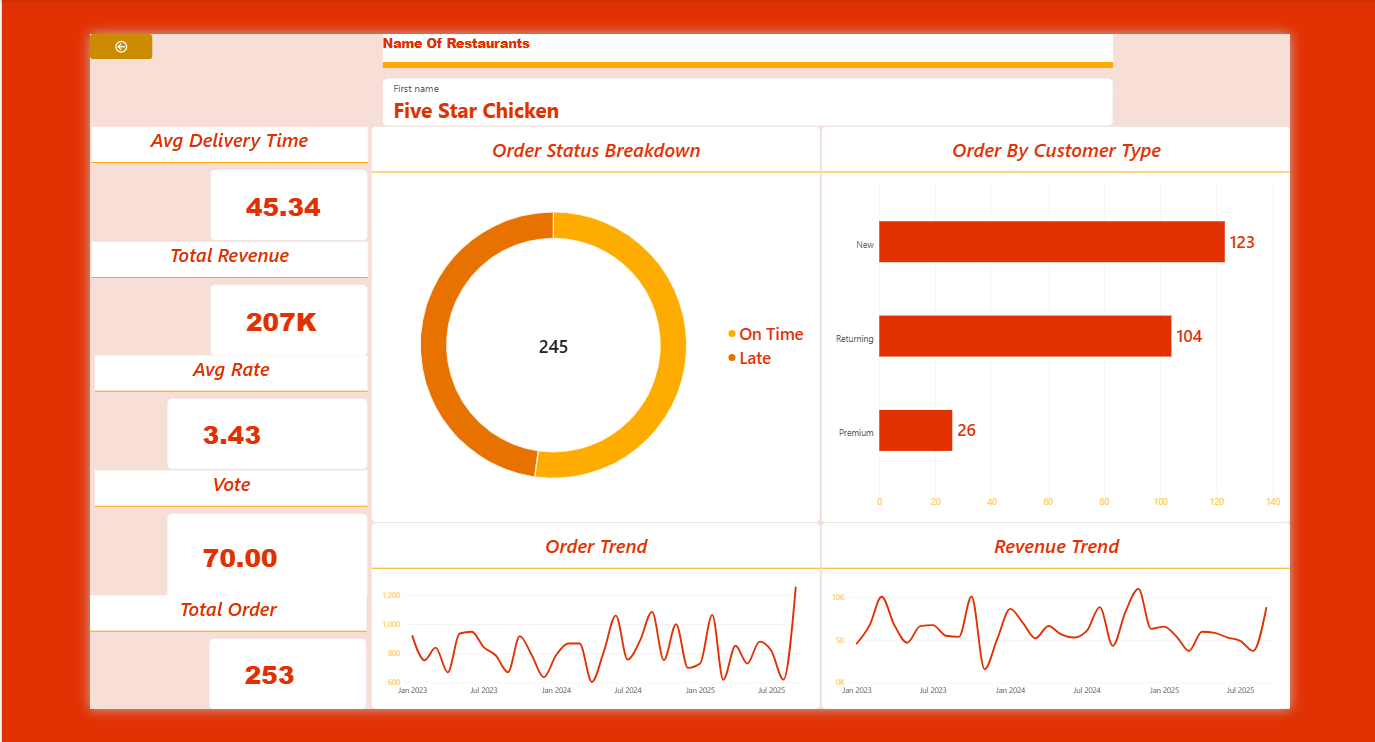

What the dashboard file says about the page in this screenshot:
{"tool":"powerbi","page":{"name":"Restaurants Details","canvas":[1920,1080],"ordinal":5},"visuals":[{"type":"cardVisual","title":"Avg Delivery Time","fields":{"Data":["Orders.Avg Delivery Time"]},"box":[2.1,148.2,442.5,183.2],"z":0},{"type":"cardVisual","title":"Total Revenue","fields":{"Data":["Orders.Total Revenue"]},"box":[2.1,331.4,442.5,183.2],"z":1},{"type":"cardVisual","title":"Avg Rate","fields":{"Data":["Avg(Restaurants.rate)"]},"box":[8.2,514.6,436,183.3],"z":2},{"type":"cardVisual","title":"Vote","fields":{"Data":["Restaurants.Count of votes average per name"]},"box":[8.2,697.8,436,208.1],"z":3},{"type":"cardVisual","title":"Total Order","fields":{"Data":["Orders.Total Orders"]},"box":[0,897.4,442.5,183.2],"z":4},{"type":"cardVisual","title":"Name Of Restaurants","fields":{"Data":["Min(Restaurants.name)"]},"box":[467.2,0,1169.1,148.2],"z":5},{"type":"lineChart","title":"Revenue Trend","fields":{"Category":["DateTable.Date.Variation.Date Hierarchy.Year","DateTable.Date.Variation.Date Hierarchy.Month"],"Y":["Orders.Total Revenue"]},"box":[1169.1,782.2,751.3,298.5],"z":6},{"type":"lineChart","title":"Order Trend","fields":{"Category":["DateTable.Date.Variation.Date Hierarchy.Year","DateTable.Date.Variation.Date Hierarchy.Month"],"Y":["Orders.Avg Order Value"]},"box":[450.8,782.2,718.4,298.5],"z":7},{"type":"clusteredBarChart","title":"Order By Customer Type","fields":{"Category":["Customers.CustomerType"],"Y":["Orders.Total Orders"]},"box":[1169.1,148.2,751.3,634],"z":8},{"type":"actionButton","box":[0,0,100,40],"z":10},{"type":"donutChart","title":"Order Status Breakdown","fields":{"Category":["Orders.Delivery Status"],"Y":["Orders.Total Orders"]},"box":[450.8,148.2,718.4,634],"z":11}]}

Visuals, with their boxes on the page's 1920x1080 design canvas (x1, y1, x2, y2). These are canvas units, not pixel positions in the 1375x742 screenshot, which may show the page scaled, cropped or inside an application window:
"Avg Delivery Time" cardVisual: 2/148/445/331
"Total Revenue" cardVisual: 2/331/445/515
"Avg Rate" cardVisual: 8/515/444/698
"Vote" cardVisual: 8/698/444/906
"Total Order" cardVisual: 0/897/442/1081
"Name Of Restaurants" cardVisual: 467/0/1636/148
"Revenue Trend" lineChart: 1169/782/1920/1081
"Order Trend" lineChart: 451/782/1169/1081
"Order By Customer Type" clusteredBarChart: 1169/148/1920/782
actionButton: 0/0/100/40
"Order Status Breakdown" donutChart: 451/148/1169/782
